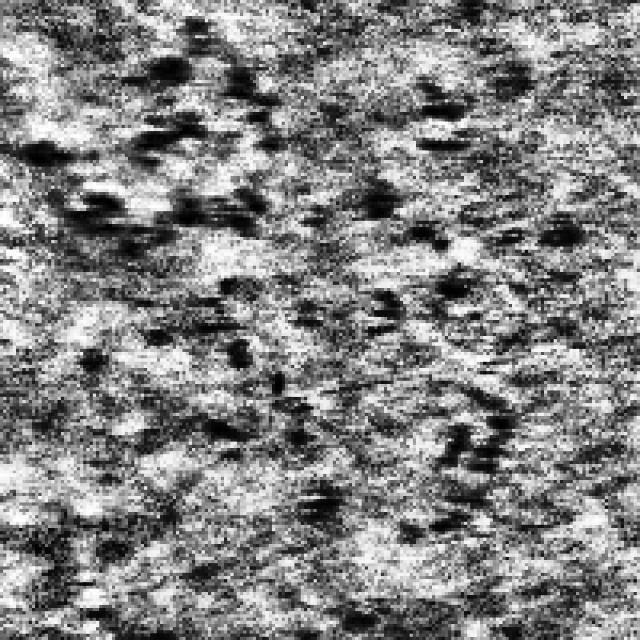Crazing: (332, 67, 538, 557), (9, 7, 284, 250), (137, 362, 356, 524)
